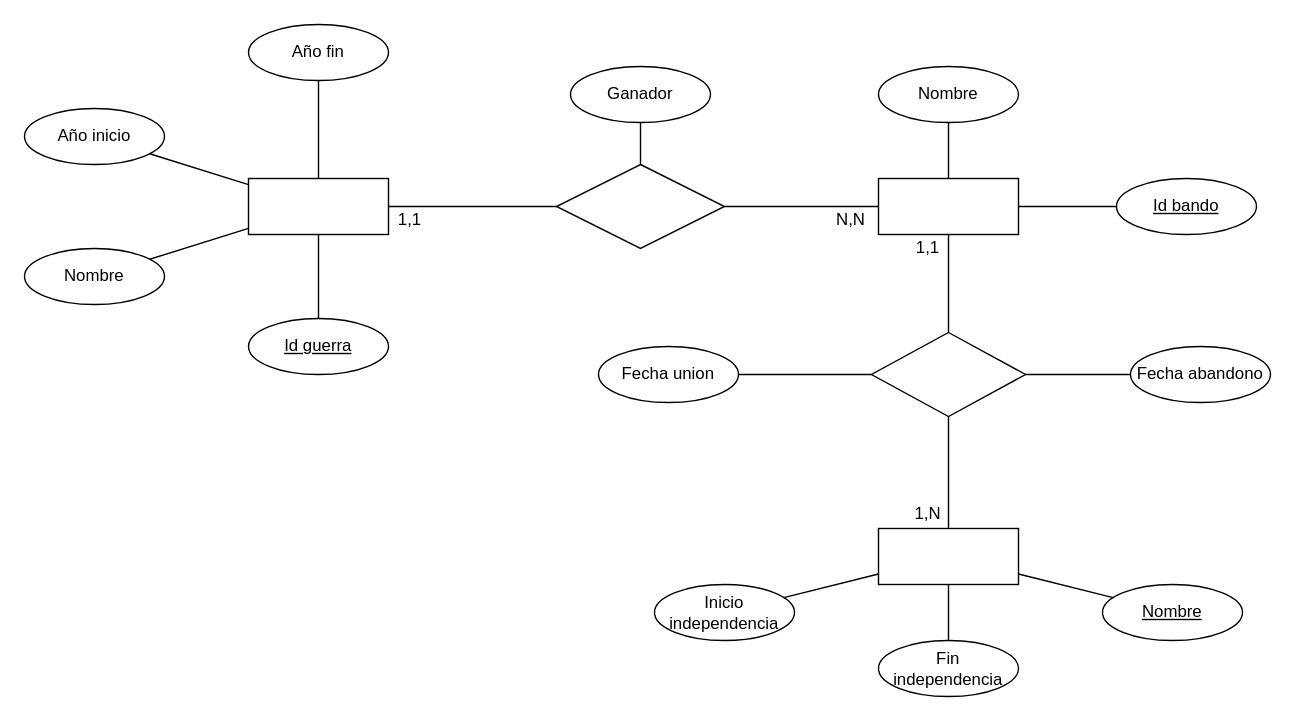
Some shapes in this 1295 by 721 pixel diagram are drawn without their labels. Here are the shapes that lost their labels. From the top down, the centre of each, then its label:
At pixel 317 205: "GUERRA".
At pixel 639 205: "PARTICIPA".
At pixel 947 205: "BANDO".
At pixel 948 373: "SE UNE".
At pixel 947 555: "PAIS".
